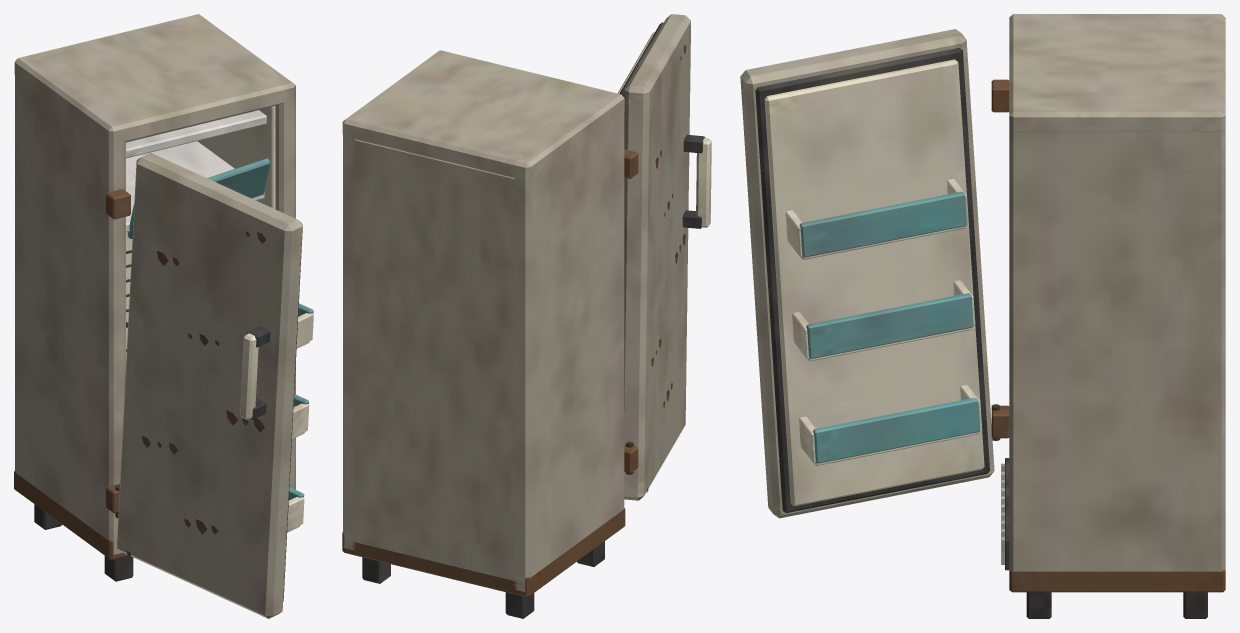
The model's file is BR27_broken_fridge_open.glb.
The picture shows the model from 3 angles, left to right: view 1: azimuth 30°, elevation 25°; view 2: azimuth 150°, elevation 25°; view 3: azimuth 270°, elevation 25°; orthographic projection. The views are drawn at different scales.
Visible parts, largest first — view 1: Left enamel casing; view 2: Left enamel casing; view 3: Left enamel casing.
Boxes of the visible parts, left/top/right/bottom form: Left enamel casing: left=14, top=14, right=313, bottom=618; Left enamel casing: left=342, top=14, right=711, bottom=618; Left enamel casing: left=740, top=14, right=1225, bottom=618.
Bounding box in the file's own units: 0.7411 × 1.7 × 1.46.
Materials: 8 (8 with a texture image).
